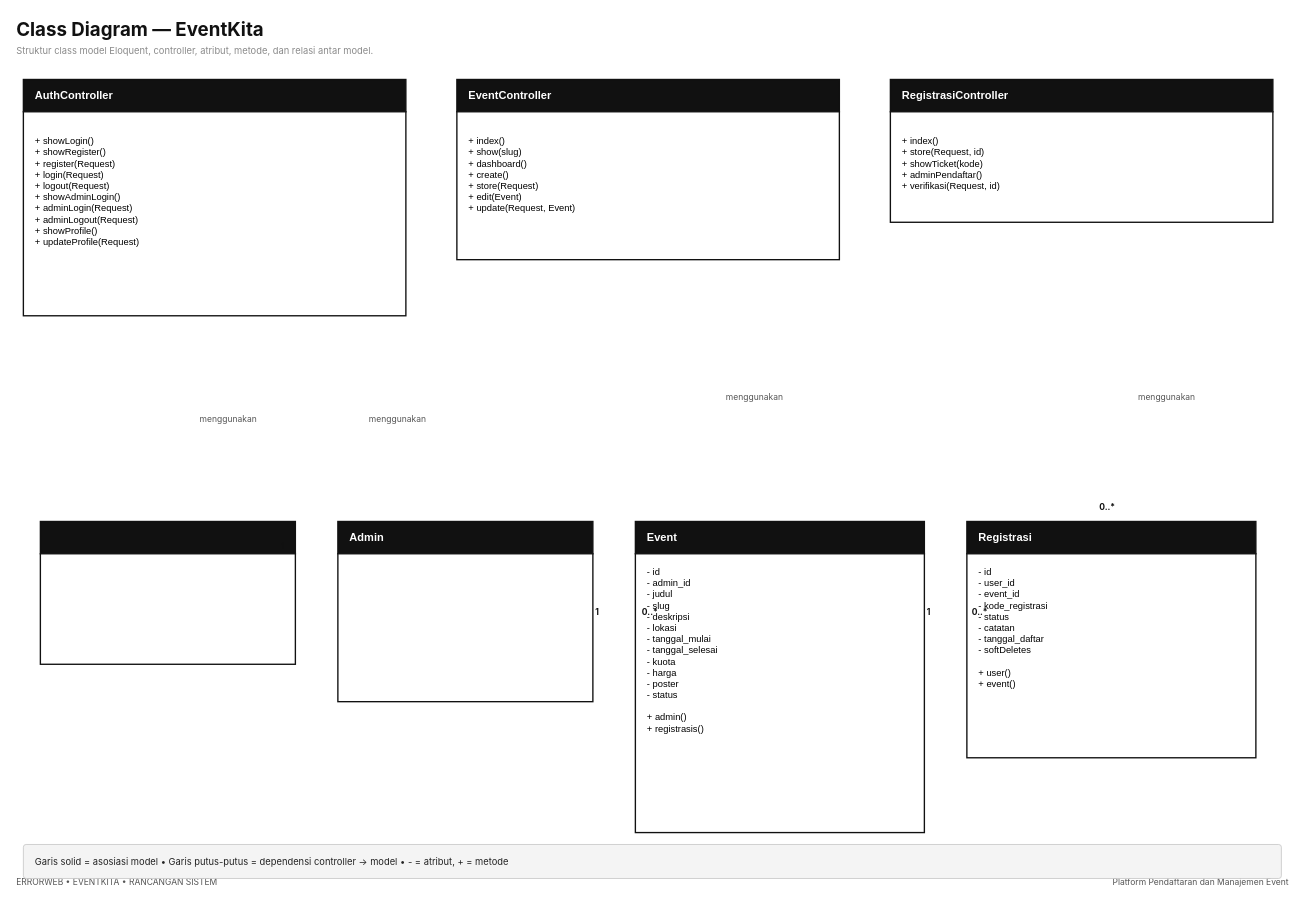
The diagram is 1304 pixels wide and 904 high, and some of its shapes have lost their labels. The box of each missing label's shape, as (x1, y1, x2, y2) in pixels:
- id - nama_admin - username - email - password - is_active + events(): (337, 553, 593, 702)
- id - name - email - password + registrasis(): (39, 553, 296, 665)
User: (39, 520, 296, 554)
